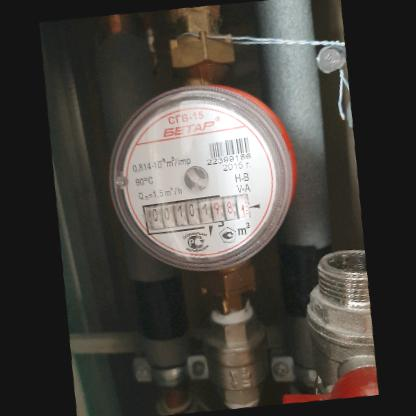digital_screen: (138, 192, 215, 237)
